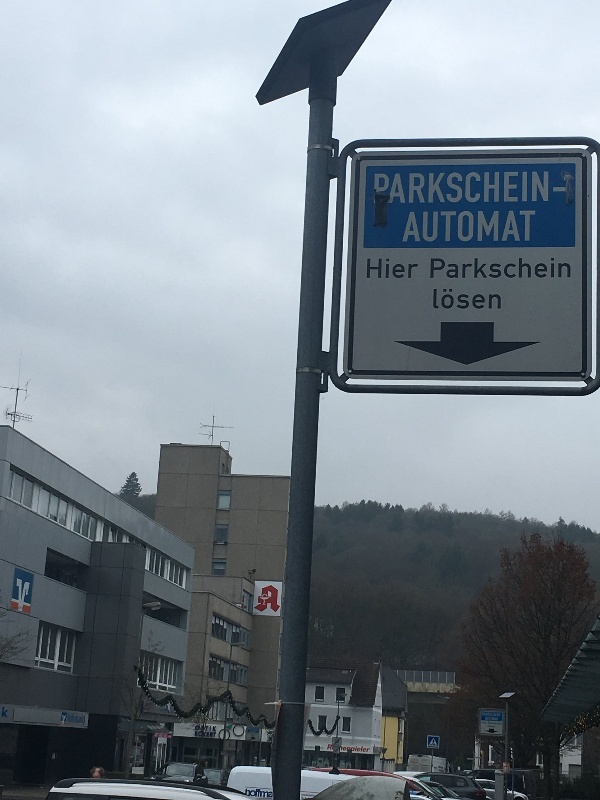text: (385, 170, 400, 207), (401, 170, 416, 207), (417, 170, 432, 207), (433, 170, 448, 207), (449, 170, 464, 207), (465, 170, 480, 207), (481, 170, 496, 207), (497, 170, 512, 207), (513, 170, 528, 207), (529, 170, 544, 207), (417, 209, 432, 245), (433, 209, 448, 245), (449, 209, 464, 245), (465, 209, 480, 245), (481, 209, 496, 245), (497, 209, 512, 245), (513, 209, 528, 245), (374, 170, 384, 207), (433, 258, 448, 281), (449, 258, 464, 281), (465, 258, 480, 281), (481, 258, 496, 281), (497, 258, 512, 281), (513, 258, 528, 281), (529, 258, 544, 281), (545, 258, 560, 281), (449, 288, 464, 310), (465, 288, 480, 310), (481, 288, 496, 310), (529, 209, 538, 245), (369, 258, 384, 279), (385, 258, 400, 279), (401, 258, 416, 279), (434, 288, 448, 310), (561, 258, 571, 281), (410, 209, 416, 245), (257, 787, 273, 799), (545, 170, 550, 207), (3, 706, 16, 719), (68, 713, 80, 725), (353, 744, 368, 753), (246, 787, 256, 799), (417, 258, 422, 279), (195, 731, 208, 738), (497, 288, 501, 310), (343, 744, 352, 753), (195, 725, 208, 731), (209, 731, 217, 738), (329, 744, 336, 751), (209, 725, 217, 731), (81, 713, 85, 725), (431, 258, 432, 281), (367, 258, 368, 279), (369, 744, 371, 753)
